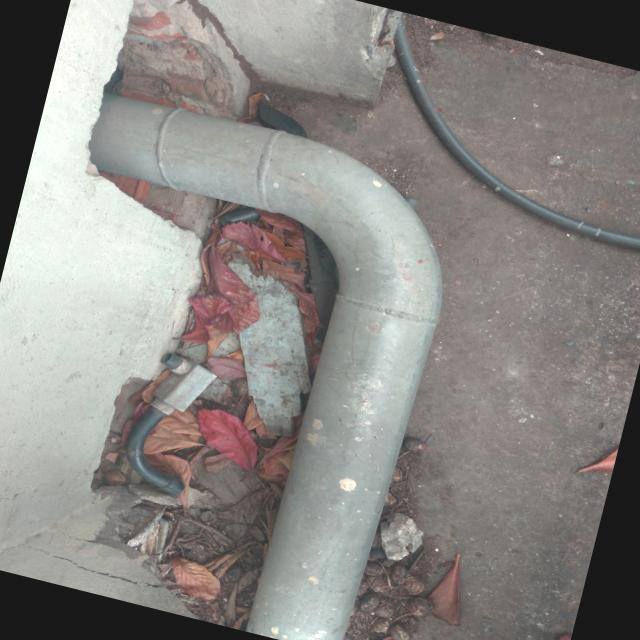gas: (95, 95, 440, 640)
